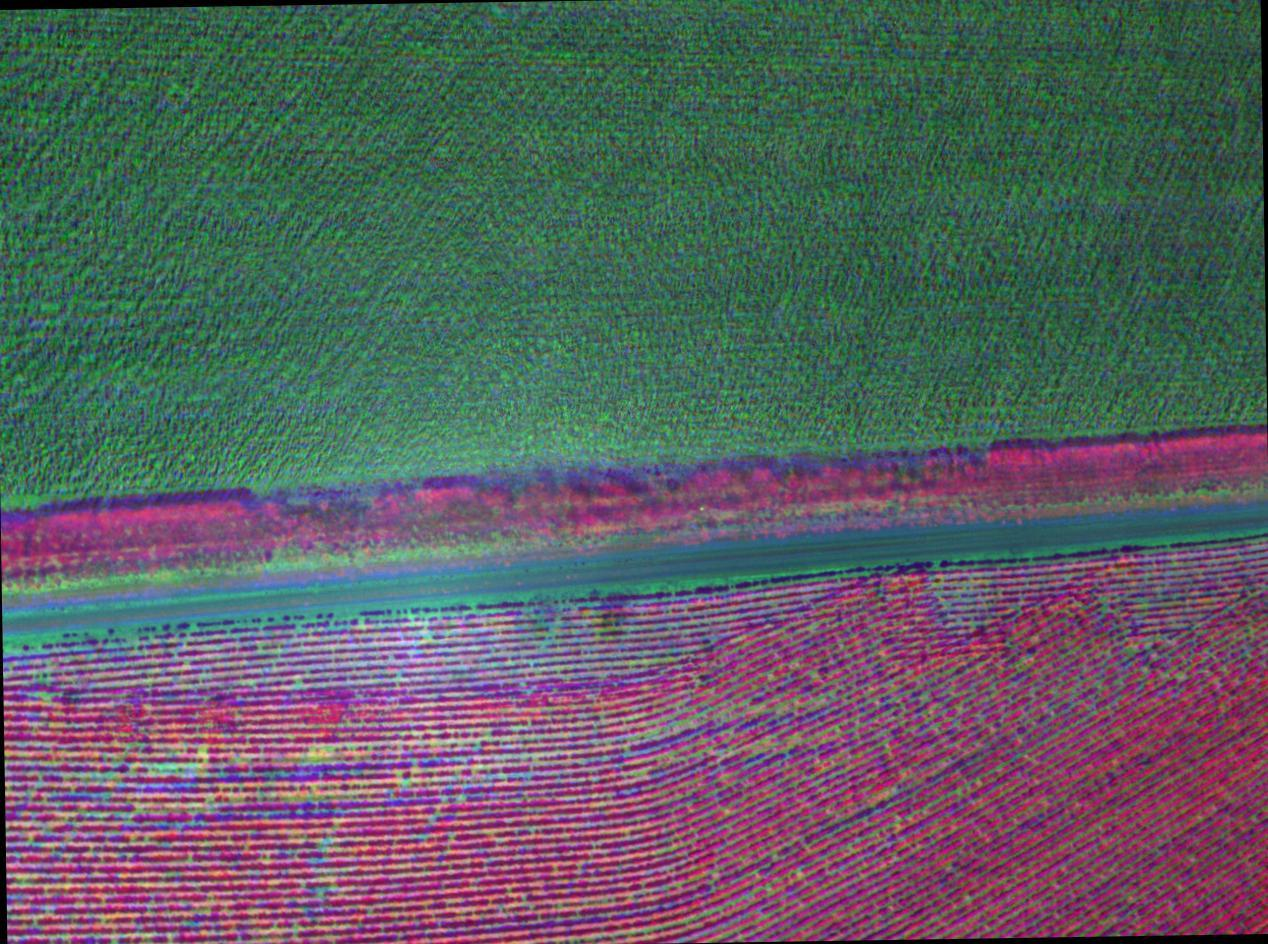dc: (568, 578, 667, 670), (122, 736, 231, 800), (280, 725, 377, 786)
